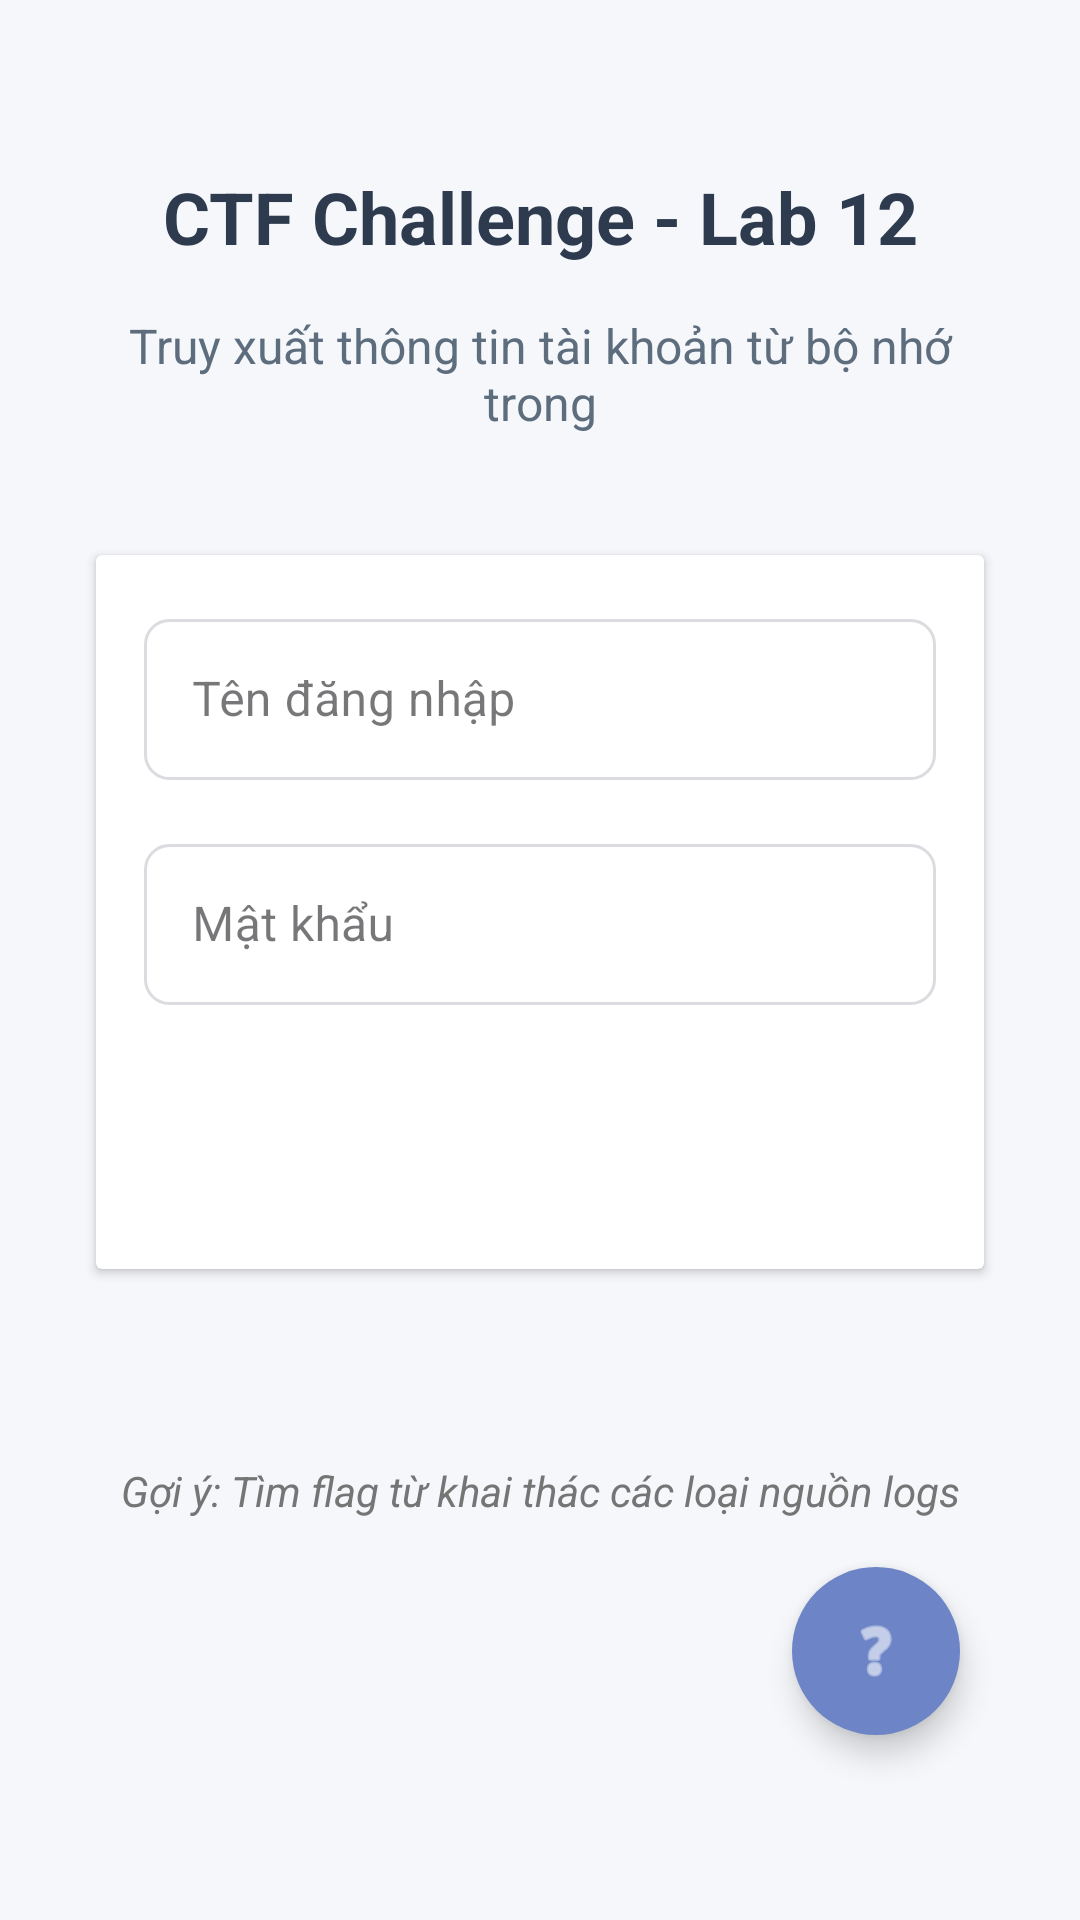

Point at icon controls on the screen. Image size 1080px x 1920px, points as (x,y).
Help: (876,1651)
